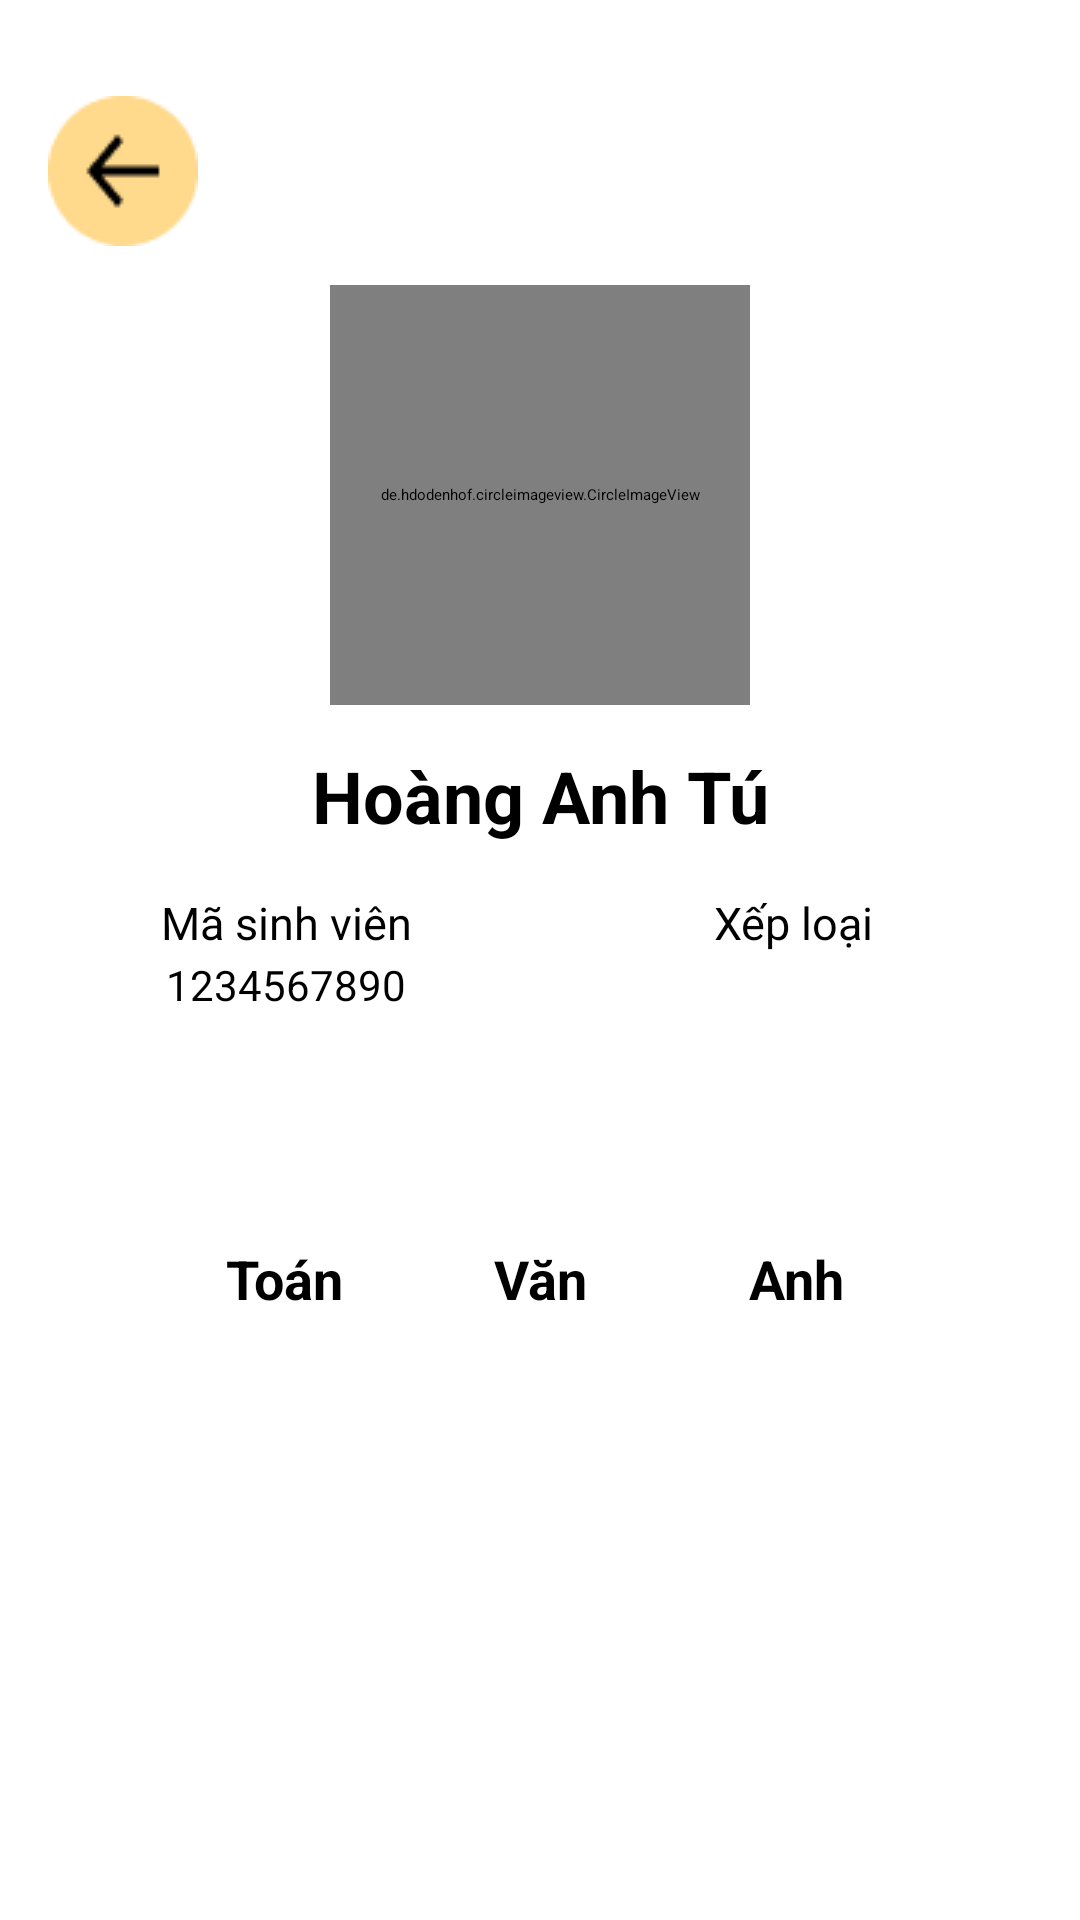

Icons on this 1080*1920 Android screen, each with its box as (x1,y1,x2,y2):
back: (48,96,198,246)
